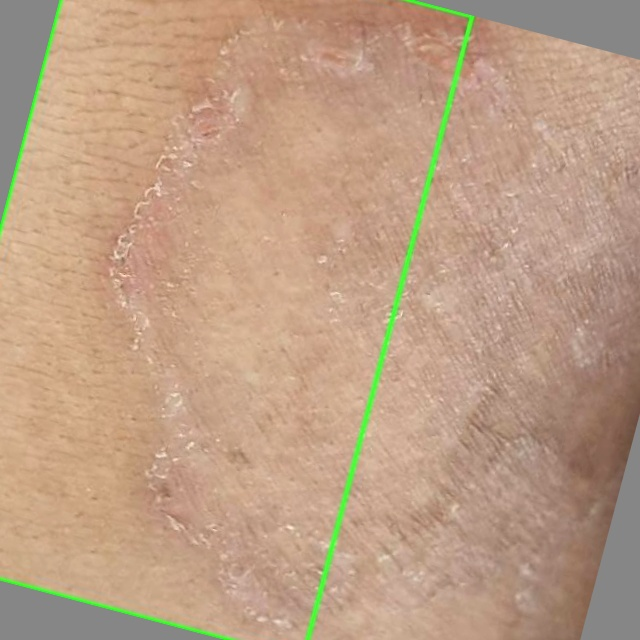Tinea Corporis: (0, 0, 472, 639)
